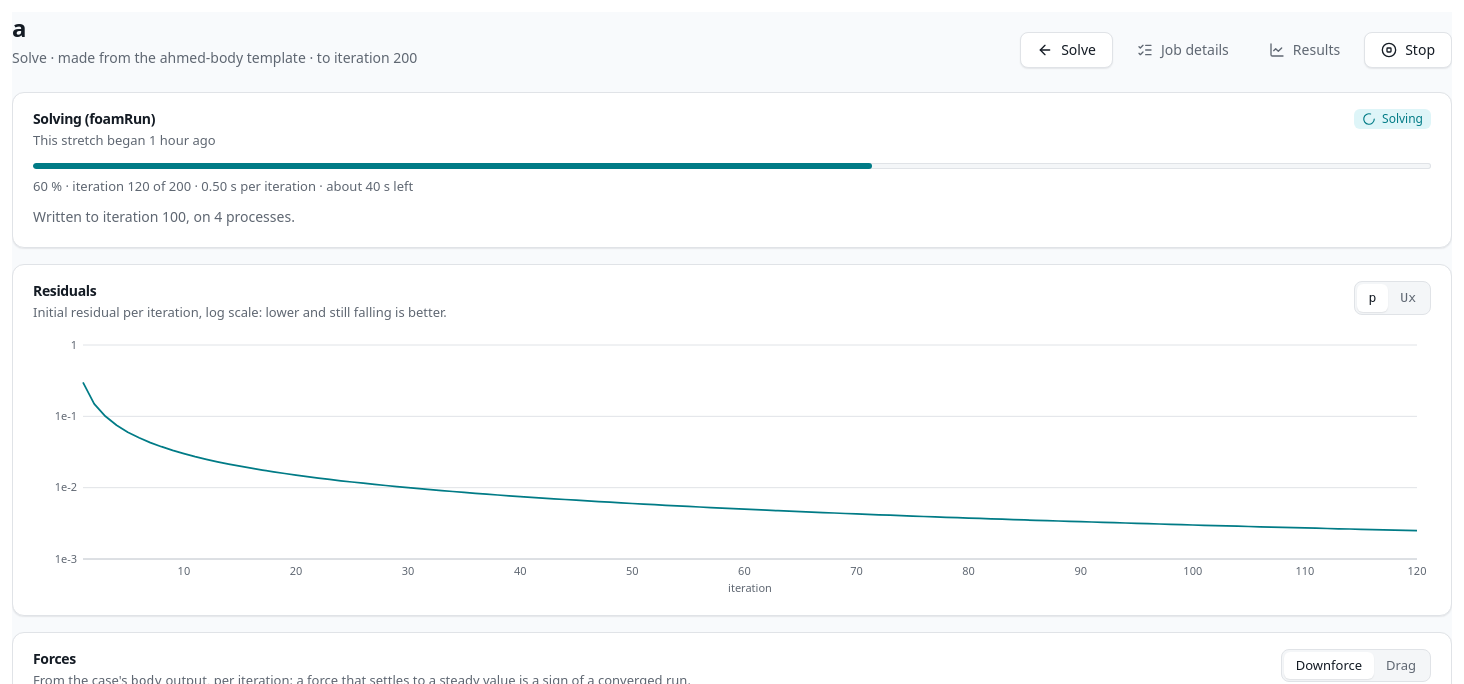
a run's page › follows a solve: its progress and pace, residuals and forces, the live judge, and Stop
This screenshot has width=1464, height=684.
Expected: the heading "a" is shown, left=12, top=11, right=26, bottom=44
Expected: the text "Solve · made from the ahmed-body template · to iteration 200" is shown, left=12, top=48, right=417, bottom=68
Click the radio button labelled "Ux" at (1408, 298), box left=1388, top=284, right=1428, bottom=312
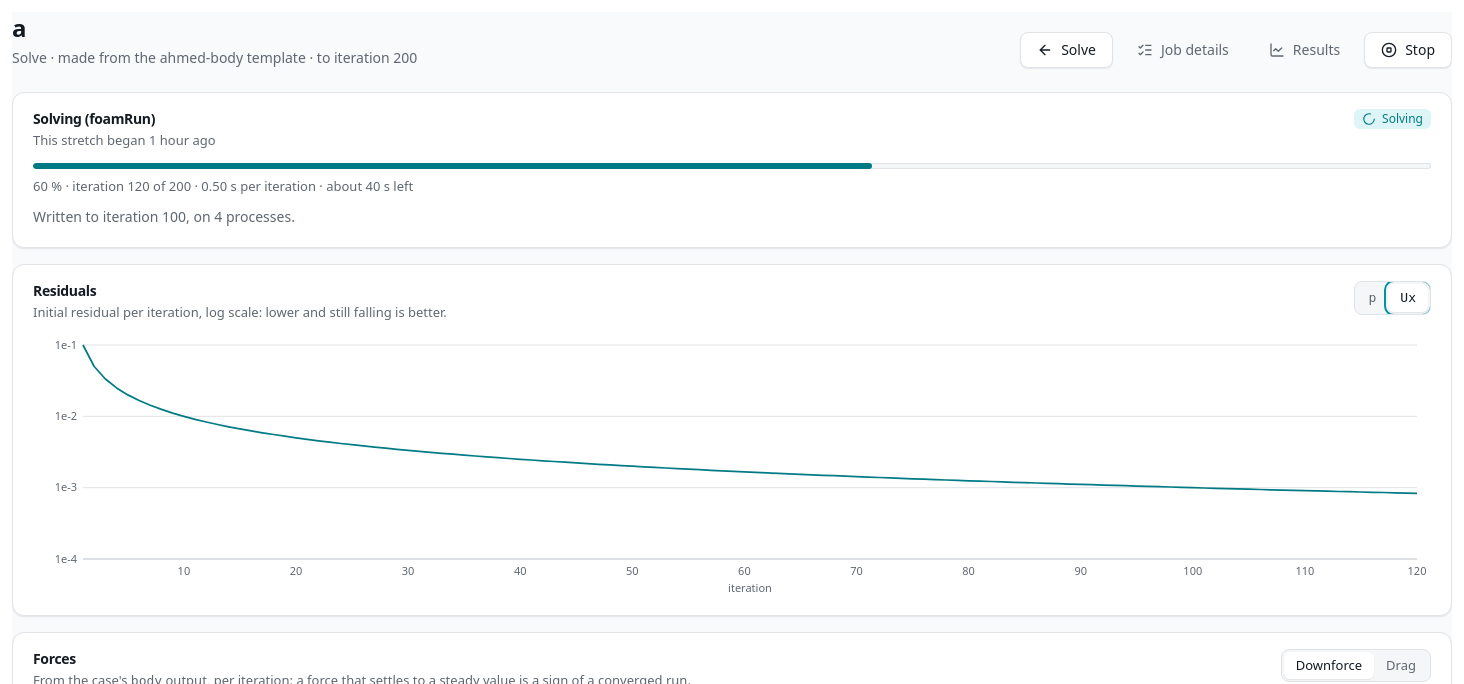
Expected: the picture named "Initial residual of Ux per iteration, log scale" is shown, left=33, top=335, right=1431, bottom=595
Click the radio button labelled "Drag" at (1401, 665), box left=1374, top=652, right=1428, bottom=679
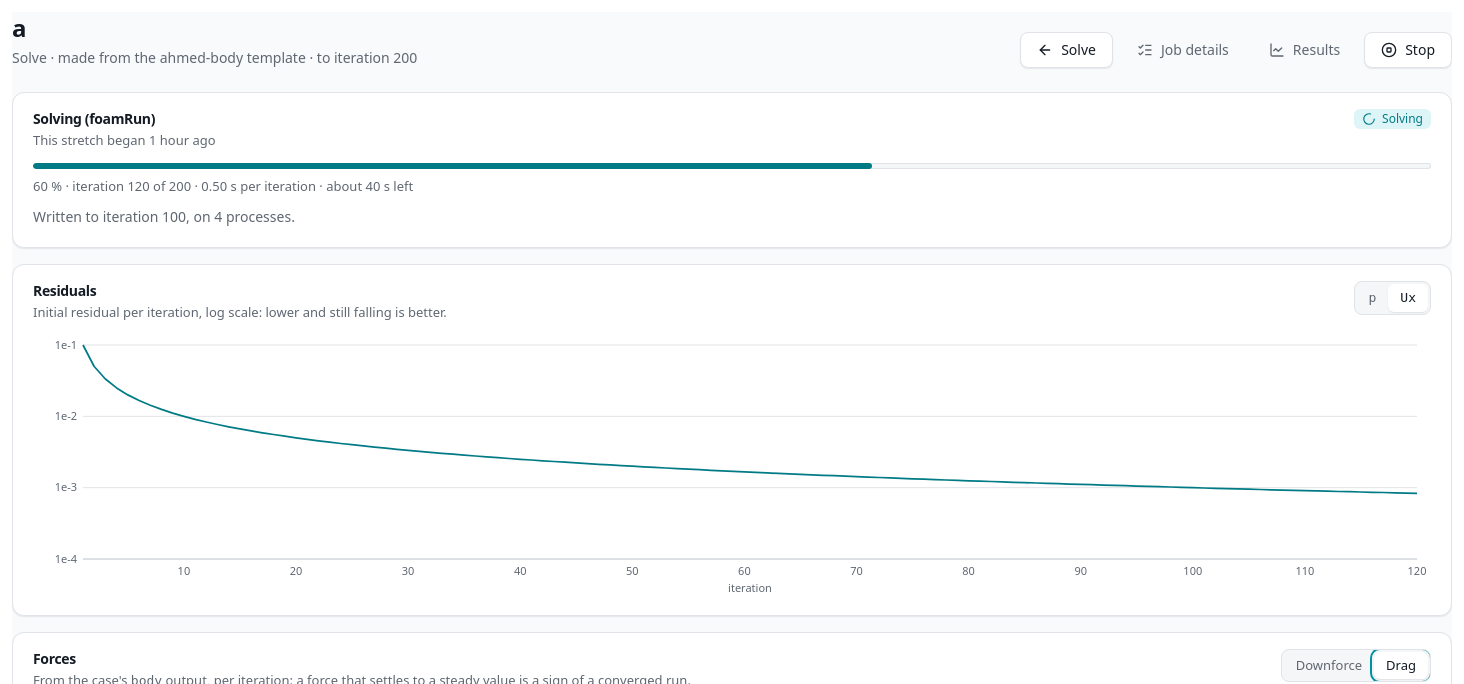
Click the button "Stop" at (1408, 50), box left=1364, top=32, right=1452, bottom=68
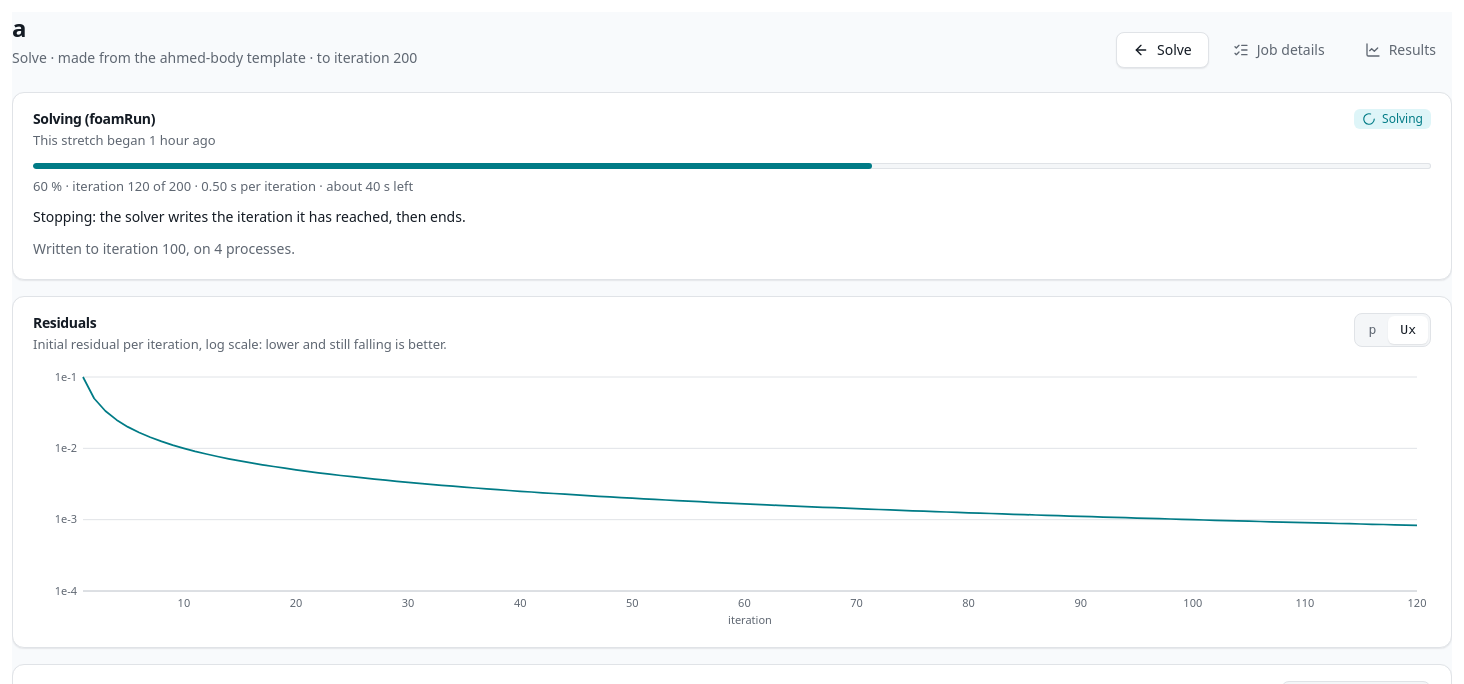
Expected: the text "Stopping: the solver writes the iteration it has reached, then ends." is shown, left=33, top=207, right=466, bottom=226
